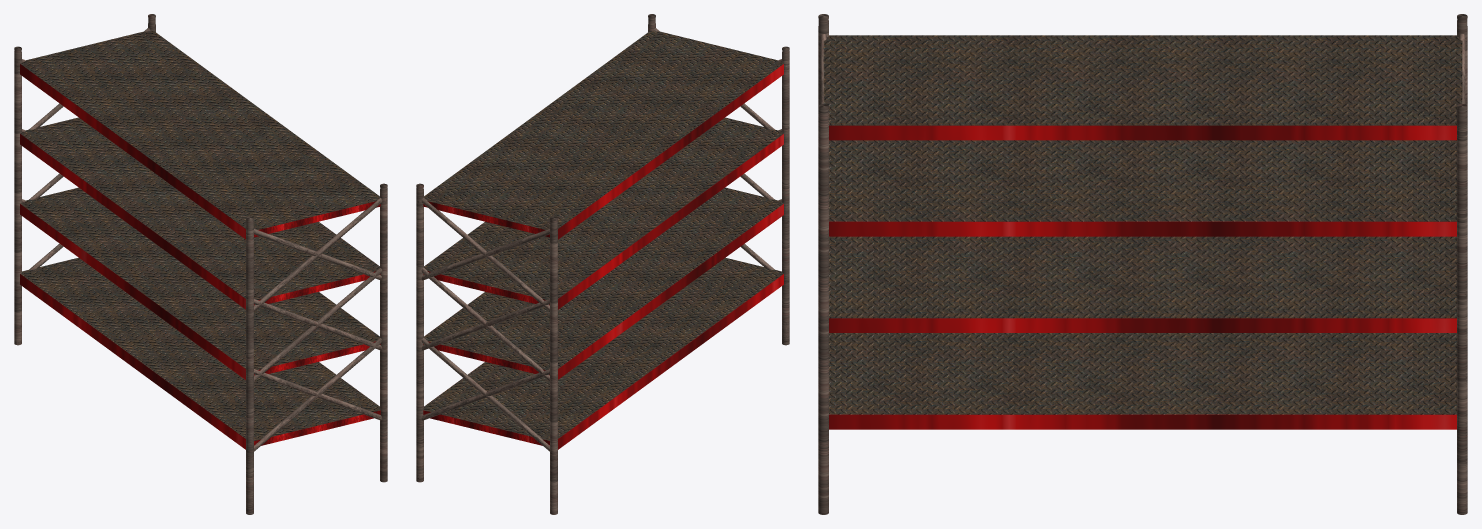
Rendered from StorageRack 1.fbx.
3 renders of one model, left to right at view 1: azimuth 30°, elevation 25°; view 2: azimuth 150°, elevation 25°; view 3: azimuth 270°, elevation 25°, orthographic. The views are drawn at different scales.
Visible parts, largest first — view 1: Cylinder.003; view 2: Cylinder.003; view 3: Cylinder.003.
Boxes of the visible parts, x1=… form: Cylinder.003: x1=14, y1=14, x2=387, y2=514; Cylinder.003: x1=416, y1=14, x2=789, y2=514; Cylinder.003: x1=818, y1=14, x2=1467, y2=514.
Bounding box in the file's own units: 210 × 422 × 610.
3 materials, 3 textured.
